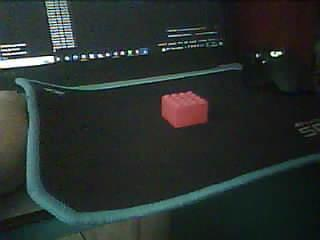lego: (161, 91, 209, 128)
